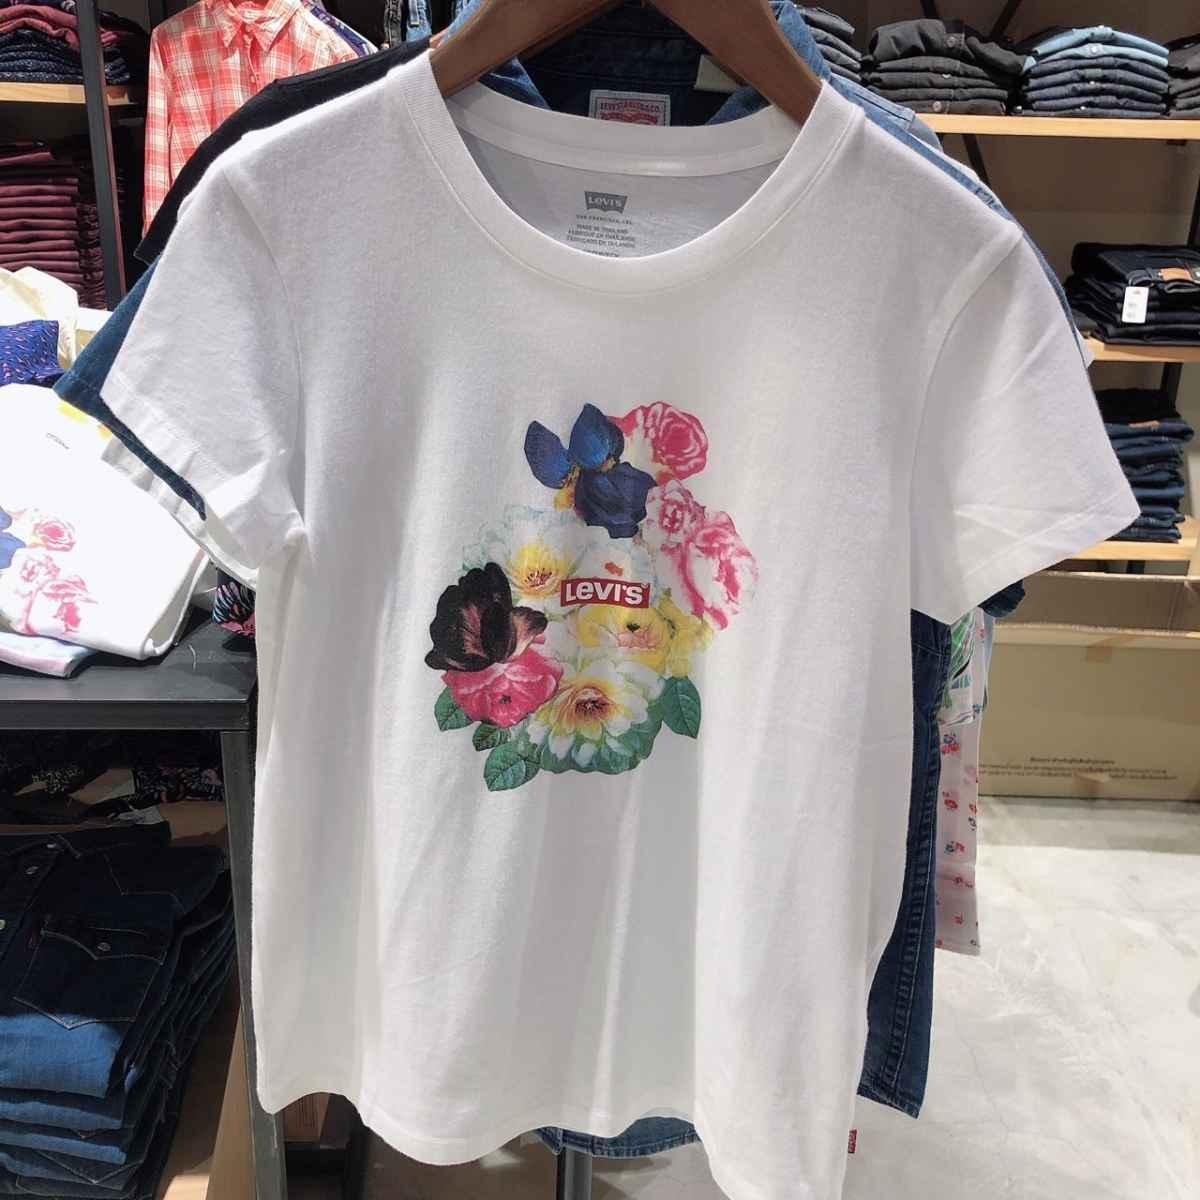Tshirt: (98, 5, 1130, 1155)
